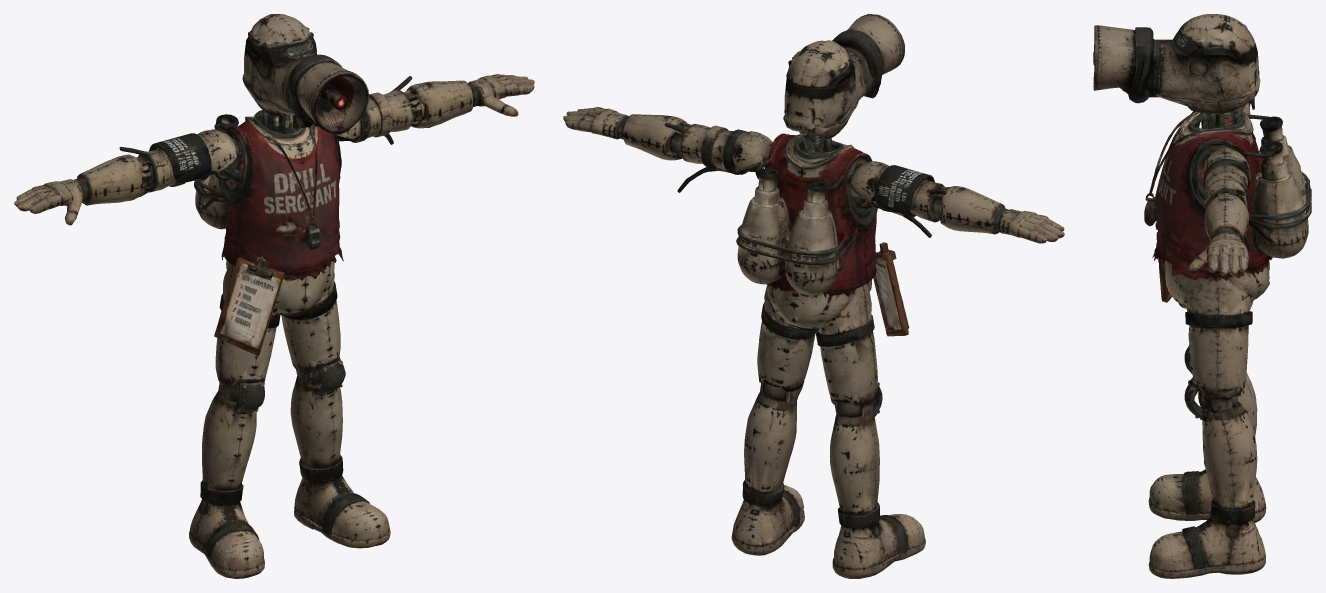
The model's file is drill_sergeant.glb.
The picture shows the model from 3 angles, left to right: view 1: azimuth 30°, elevation 25°; view 2: azimuth 150°, elevation 25°; view 3: azimuth 270°, elevation 25°; orthographic projection. The views are drawn at different scales.
Size of the model in its own units: 1.9 by 1.84 by 0.6941.
Materials: 1 (1 with a texture image).
